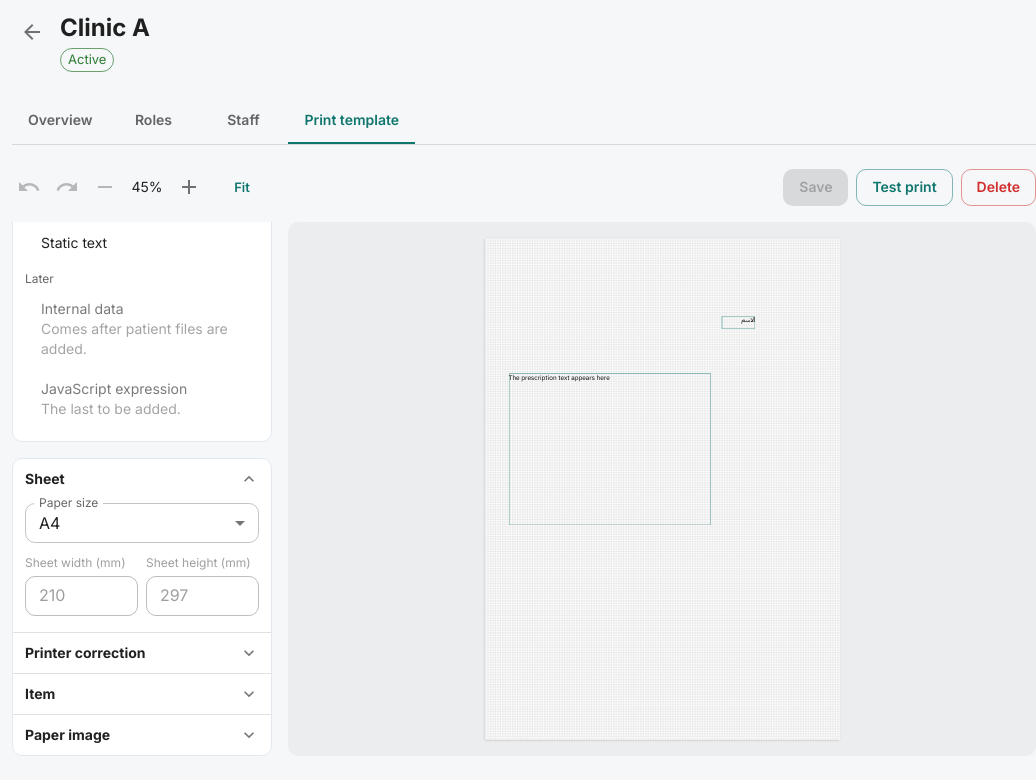
it: print template: the paper size @area:admin › going back to A4 doesn't restore the old X @TPL-047
(page scrolled)
Click the dropdown labelled "A4".
click(50, 523)  # box [39,513,60,533]
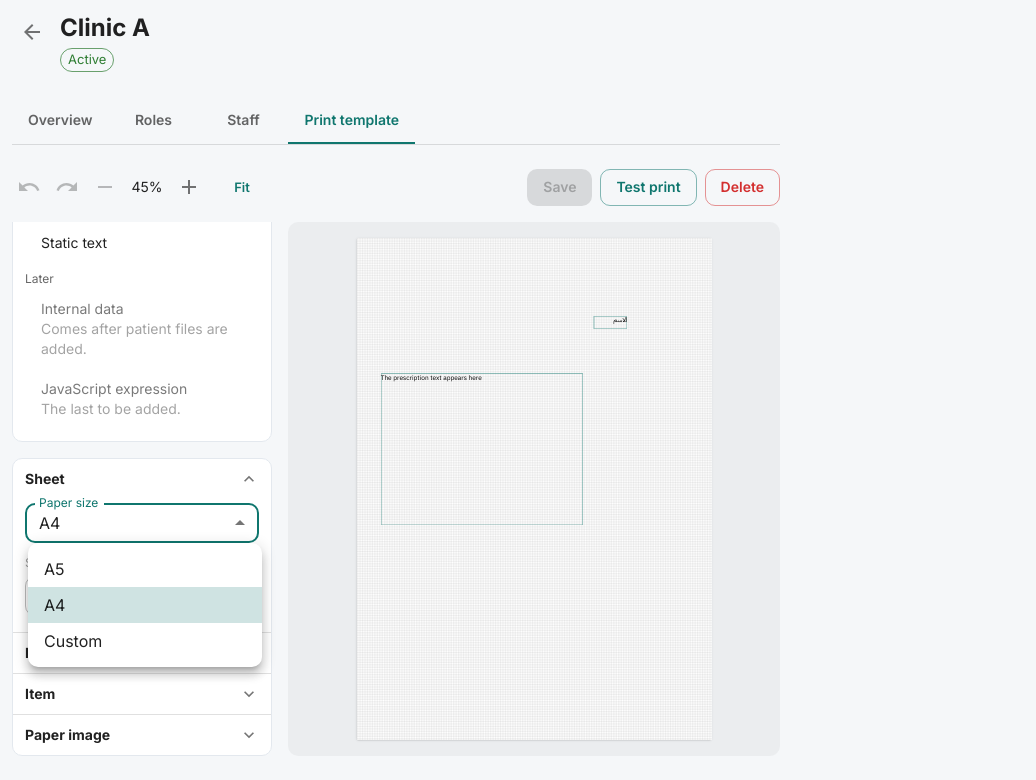
Click the option "A5".
click(54, 569)  # box [44,559,64,579]
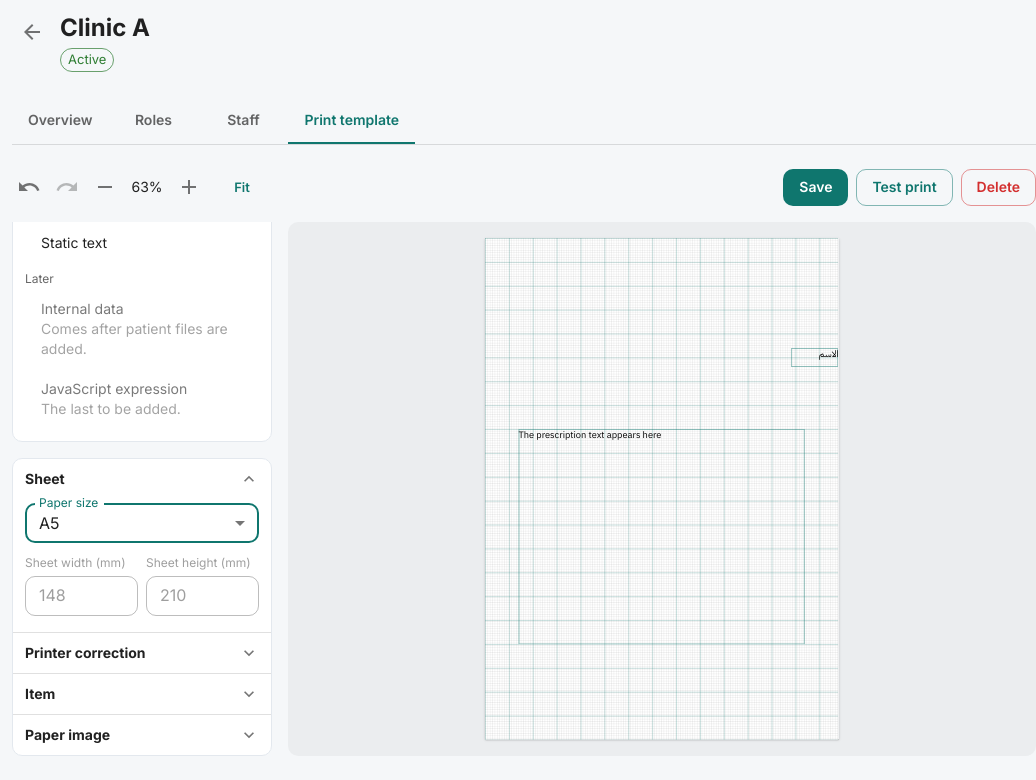
Check: the list "A5 A4 Custom" is gone
Click the dropdown labelled "A5".
click(49, 523)  # box [39,513,60,533]
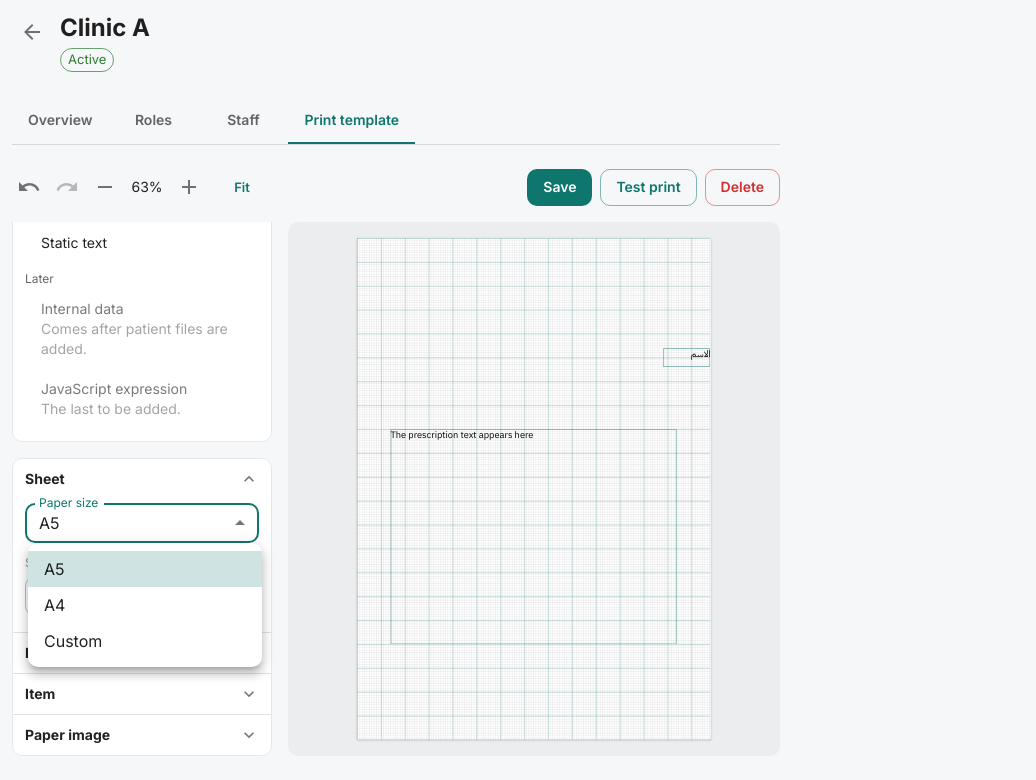
Click the option "A4".
click(55, 605)  # box [44,595,65,615]
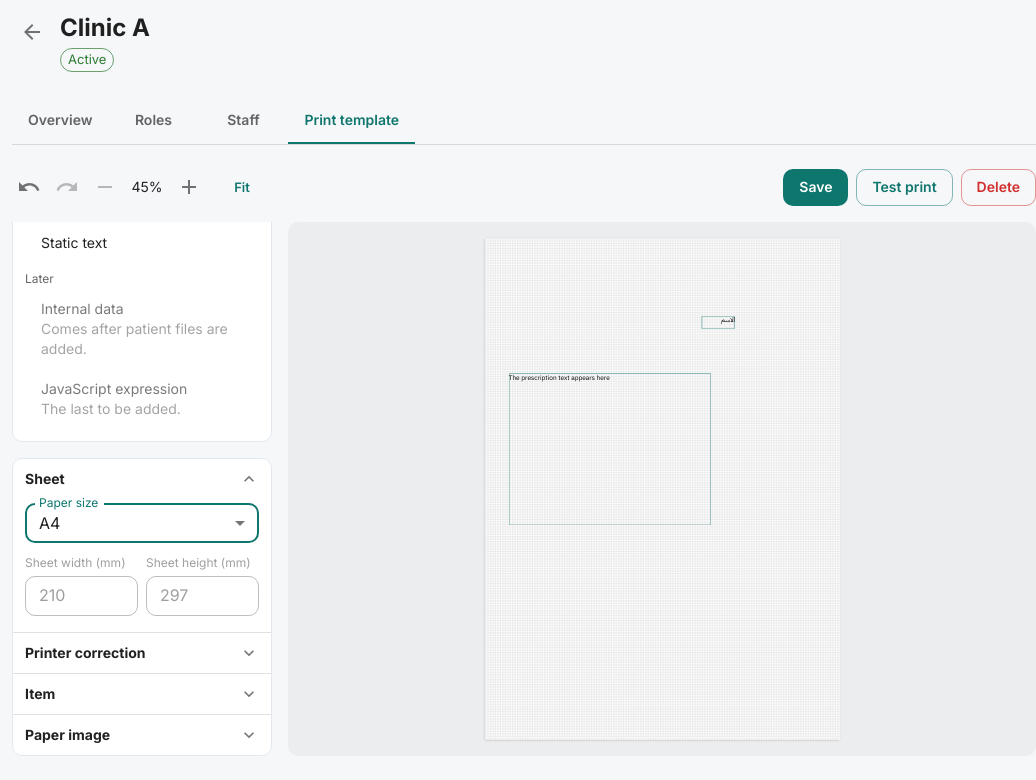
Check: the list "A5 A4 Custom" is gone
